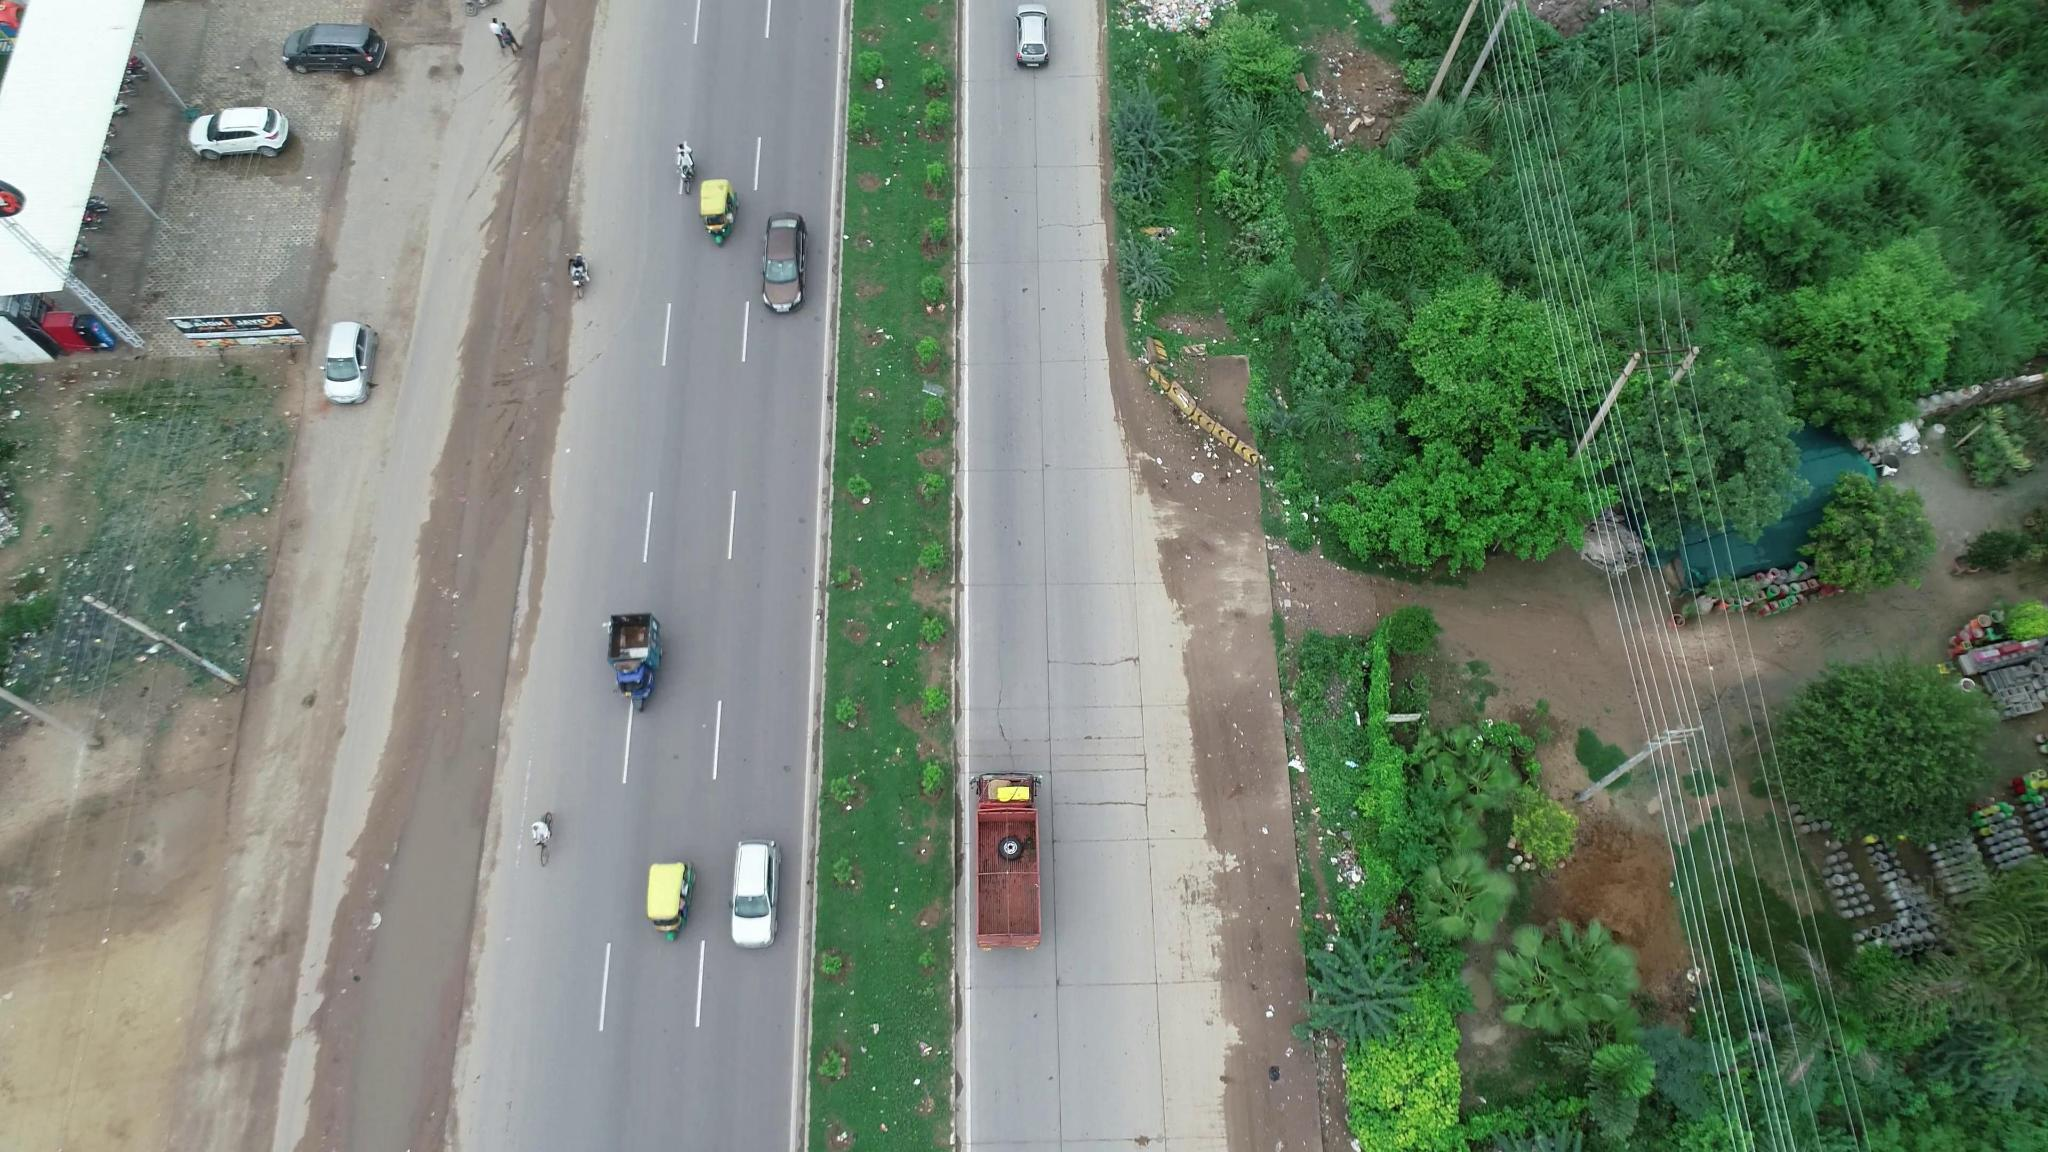Waterlogging: (350, 809, 477, 1122)
